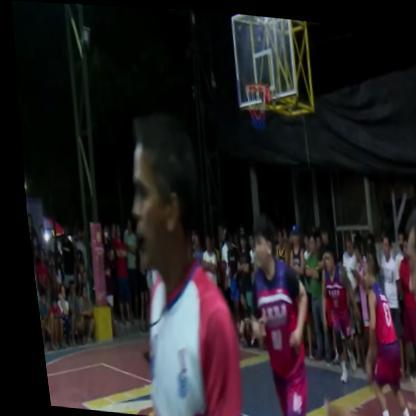rim: (238, 73, 272, 132)
